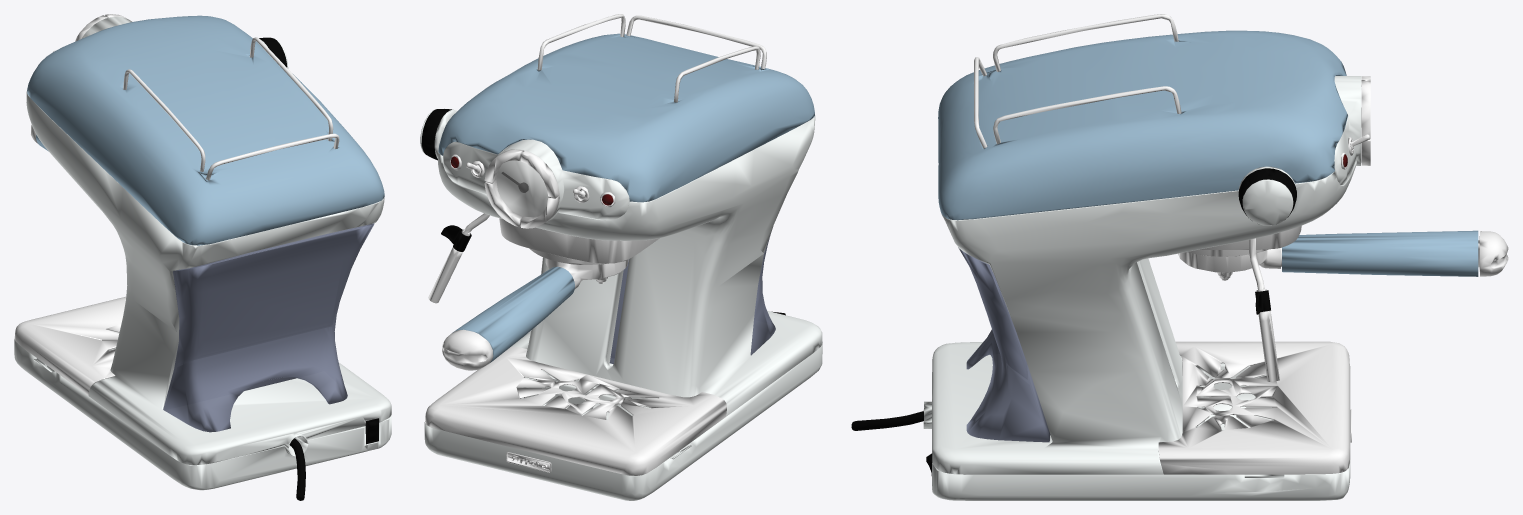
Rendered from coffee-machine.glb.
3 renders of one model, left to right at view 1: azimuth 30°, elevation 25°; view 2: azimuth 150°, elevation 25°; view 3: azimuth 270°, elevation 25°, orthographic. The views are drawn at different scales.
Visible parts, largest first — view 1: base_white_plastic_0, window_glass_0, dispenser_base_metal_0, attached_thing_black_plastic_0; view 2: base_white_plastic_0, dispenser_base_metal_0, window_glass_0, attached_thing_black_plastic_0; view 3: base_white_plastic_0, dispenser_base_metal_0, window_glass_0, attached_thing_black_plastic_0.
Boxes of the visible parts, x1,y1,x2,y2 form: base_white_plastic_0: (14,15,391,490); window_glass_0: (163,223,374,432); dispenser_base_metal_0: (14,14,339,395); attached_thing_black_plastic_0: (259,37,378,500); base_white_plastic_0: (420,33,822,500); dispenser_base_metal_0: (425,14,766,475); window_glass_0: (493,160,775,364); attached_thing_black_plastic_0: (422,109,785,315); base_white_plastic_0: (923,30,1478,500); dispenser_base_metal_0: (974,14,1508,474); window_glass_0: (958,247,1050,442); attached_thing_black_plastic_0: (851,168,1296,475).
Bounding box in the file's own units: 0.7553 × 1.04 × 1.55.
Materials: 5 (5 with a texture image).
